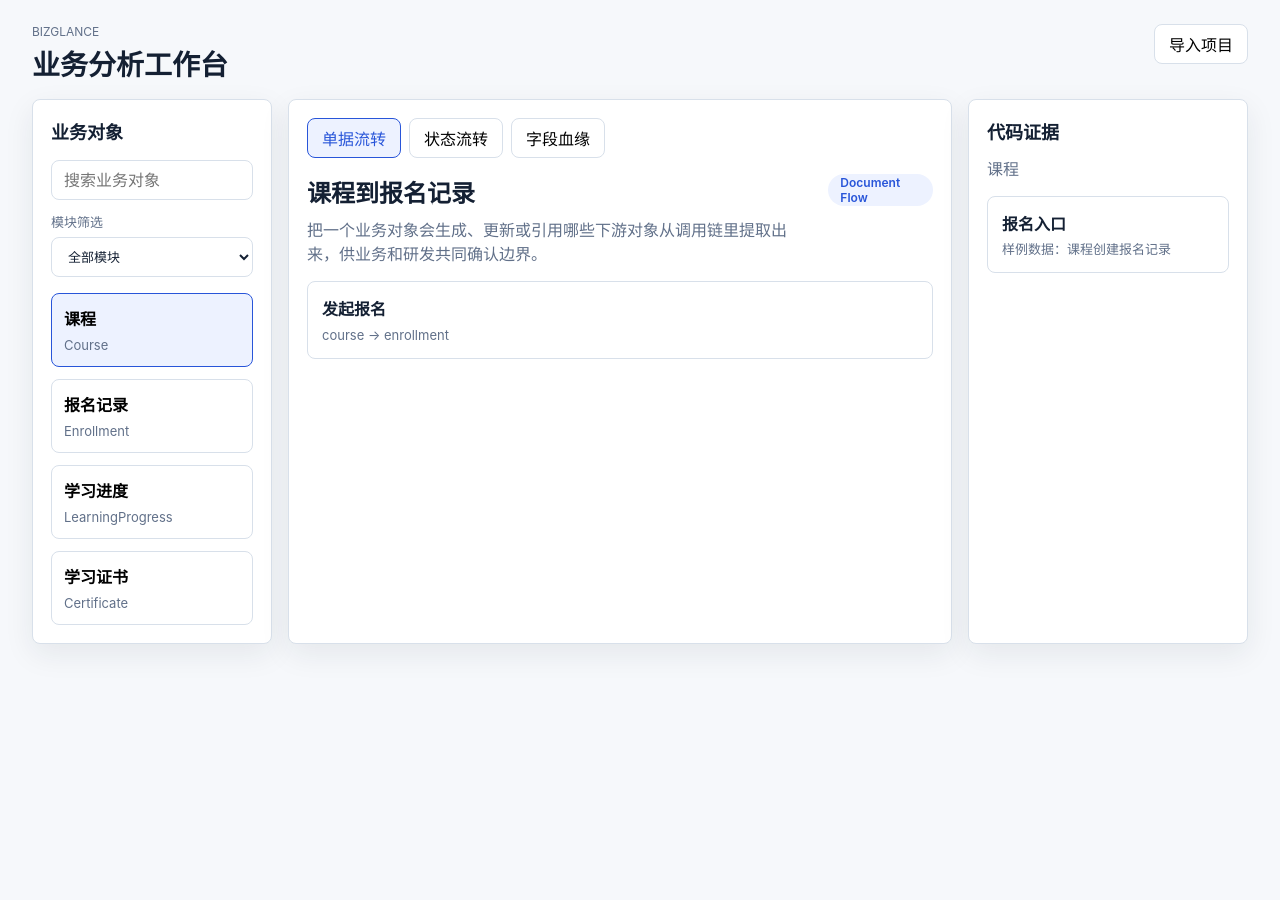
Scenario: App › opens the import dialog from the workbench entry
Click the button "导入项目" at {"x": 1201, "y": 44}, box [1154,24,1248,64]
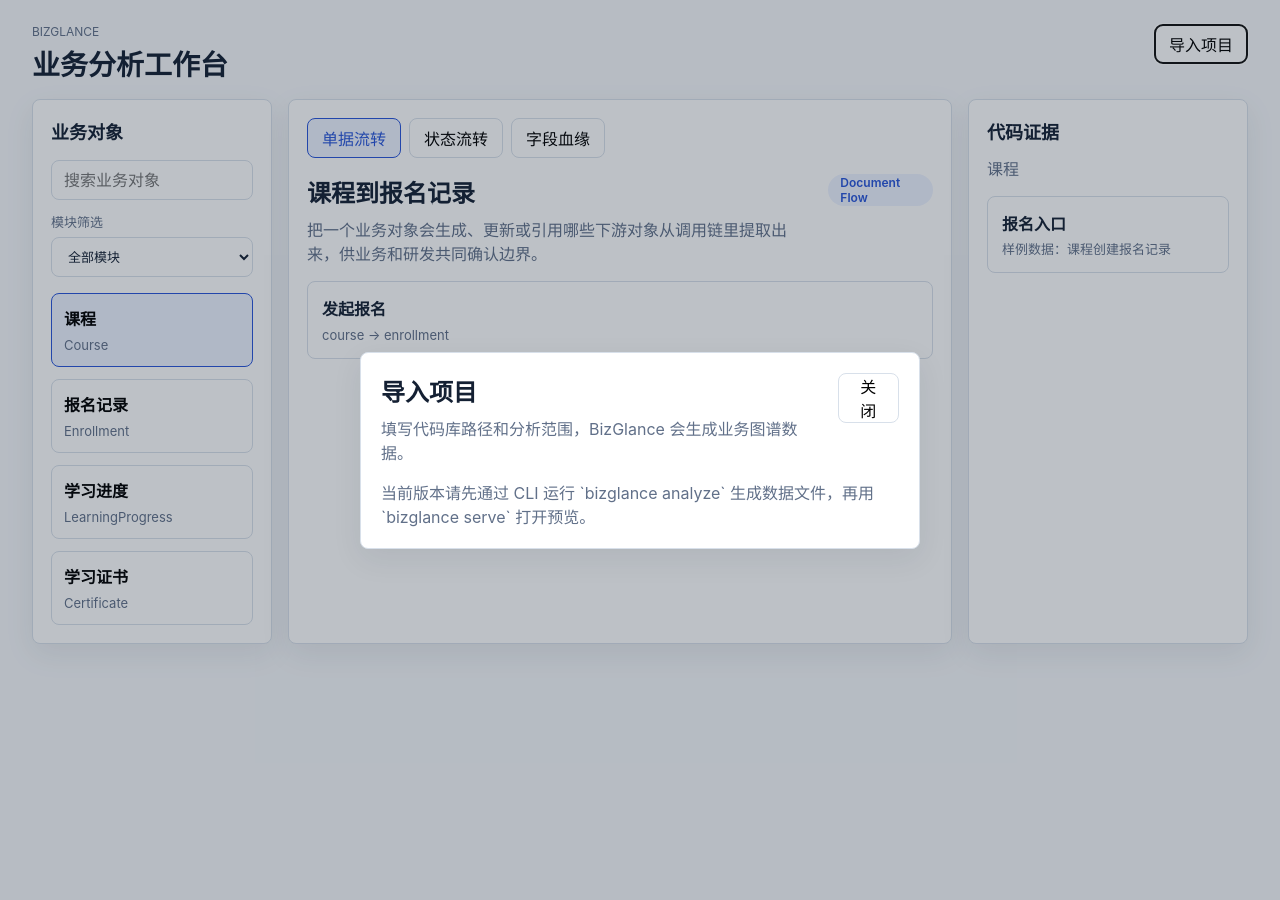
Result: the dialog "导入项目" is shown at [360,352,920,548]
Result: the text "填写代码库路径和分析范围，BizGlance 会生成业务图谱数据。" is shown at [381,416,822,464]
